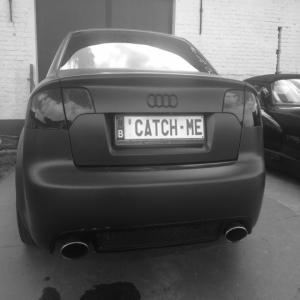Plate: (115, 115, 205, 145)
